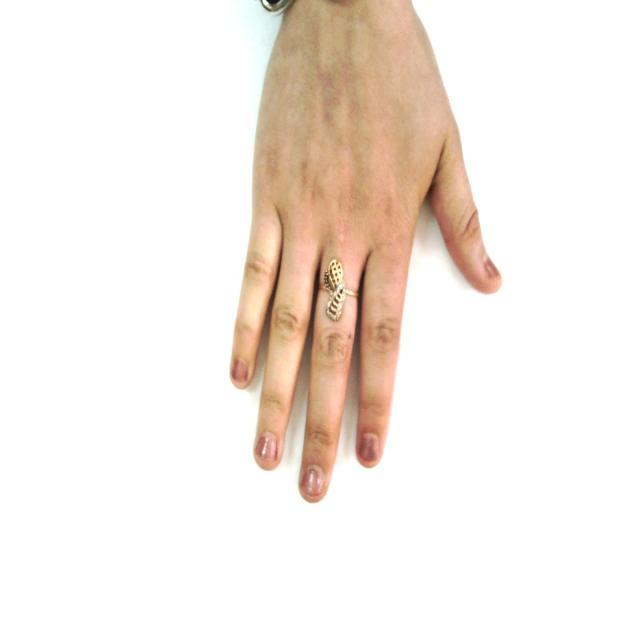Fingernail: (304, 466, 324, 496), (257, 435, 277, 463), (361, 434, 378, 461), (233, 361, 247, 383), (485, 258, 500, 278)
